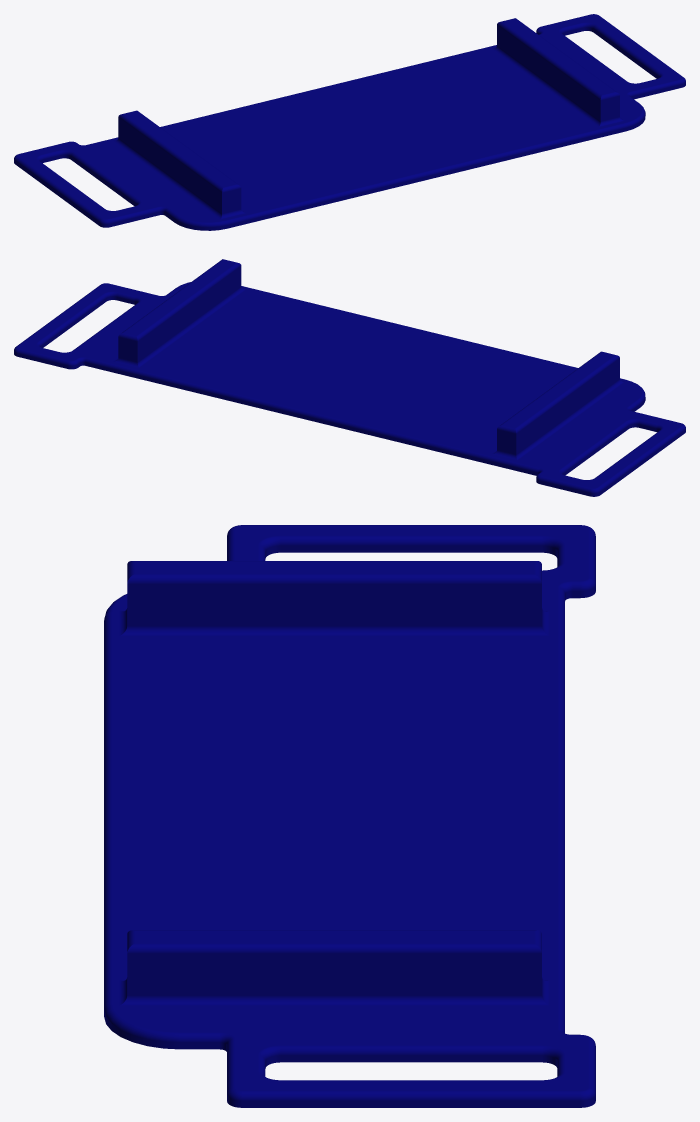
Rendered from StomaStrap105BeltSpanWide001.glb.
3 views of the same model, one above another, from view 1: azimuth 30°, elevation 25°; view 2: azimuth 150°, elevation 25°; view 3: azimuth 270°, elevation 25° (orthographic). The views are drawn at different scales.
Visible parts, largest first — view 1: Fillet015; view 2: Fillet015; view 3: Fillet015.
Part boxes in pixels (<box>): Fillet015: <box>14,14,685,230</box>; Fillet015: <box>14,259,685,496</box>; Fillet015: <box>104,525,595,1107</box>.
Bounding box in the file's own units: 0.176 × 0.01 × 0.064.
